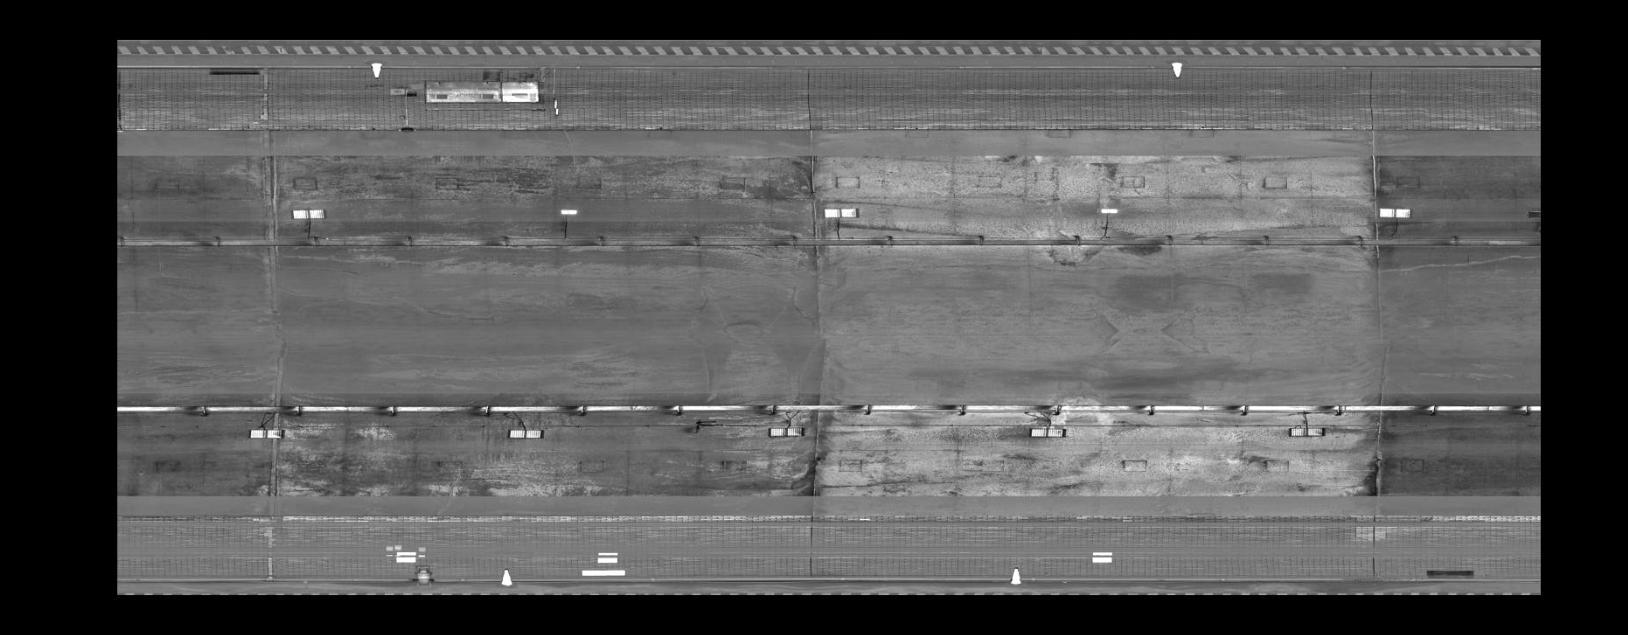light: (1285, 423, 1330, 440), (1027, 425, 1071, 442), (765, 423, 809, 440), (503, 426, 548, 442), (288, 206, 330, 221), (245, 426, 287, 441), (1377, 204, 1416, 219), (821, 205, 860, 220), (1094, 206, 1122, 215), (554, 208, 582, 216)
